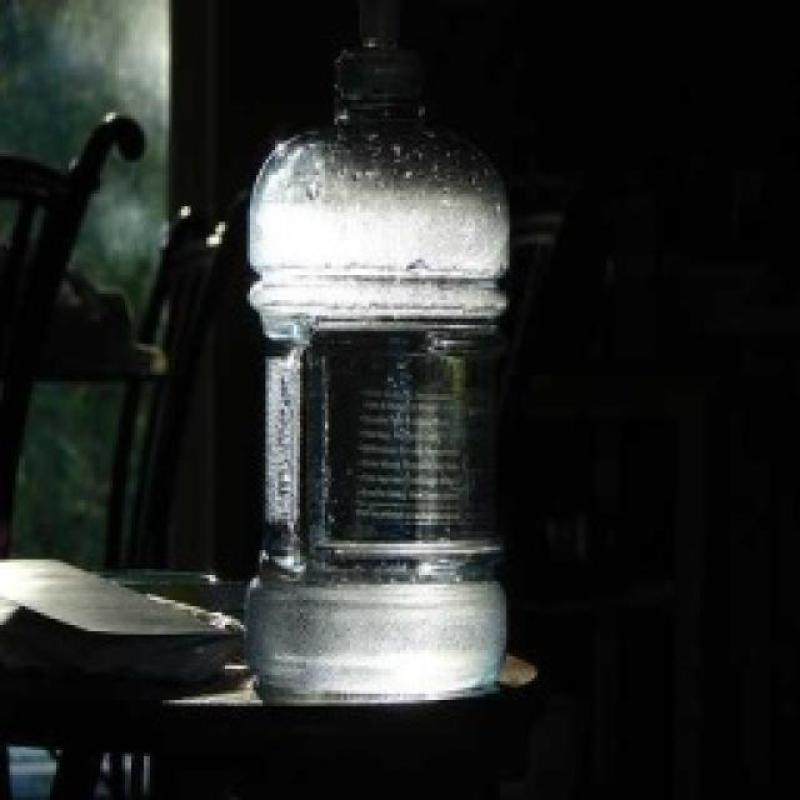botella: (250, 33, 522, 708)
